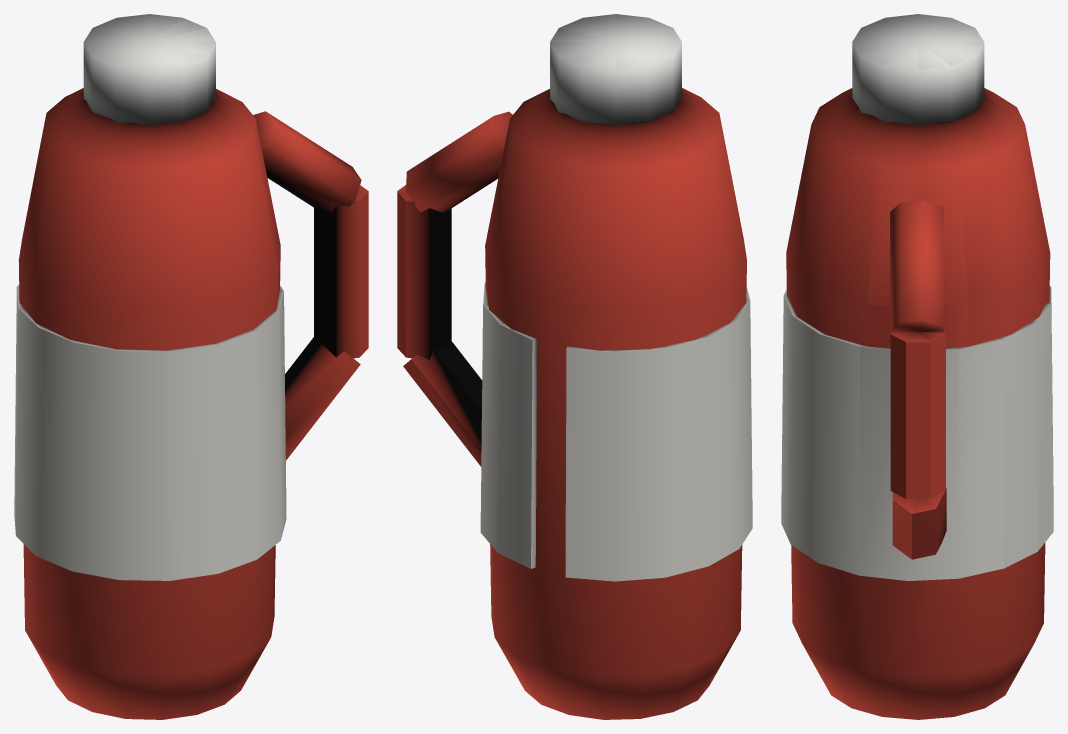
The model's file is refill_bottle.glb.
3 renders of one model, left to right at view 1: azimuth 30°, elevation 25°; view 2: azimuth 150°, elevation 25°; view 3: azimuth 270°, elevation 25°, orthographic.
Parts seen in each view (by area): view 1: body, label, cap, handle_b, handle_c, handle_a; view 2: body, label, cap, handle_b, handle_c, handle_a; view 3: body, label, cap, handle_b, handle_c, handle_a.
Boxes of the visible parts, x1,y1,x2,y2 form: body: (18, 88, 280, 719); label: (14, 284, 286, 580); cap: (83, 14, 215, 126); handle_b: (314, 185, 368, 358); handle_c: (253, 111, 361, 213); handle_a: (285, 336, 360, 460); body: (485, 88, 746, 719); label: (480, 282, 752, 581); cap: (550, 14, 681, 126); handle_b: (397, 185, 451, 359); handle_c: (406, 111, 512, 212); handle_a: (403, 340, 482, 466); body: (786, 88, 1050, 719); label: (781, 285, 1053, 581); cap: (852, 14, 984, 125); handle_b: (890, 330, 945, 498); handle_c: (890, 200, 943, 332); handle_a: (892, 487, 946, 559).
Size of the model in its own units: 0.1216 by 0.224 by 0.0867.
